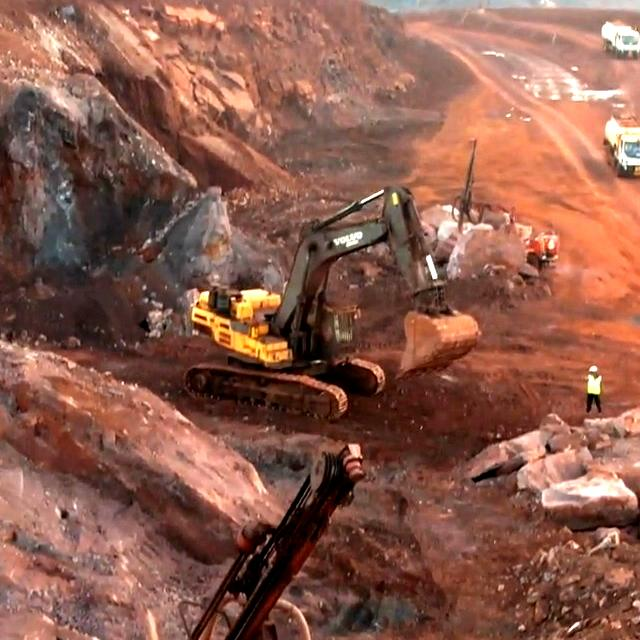Excavator: (188, 290, 357, 401)
person: (584, 365, 606, 414)
